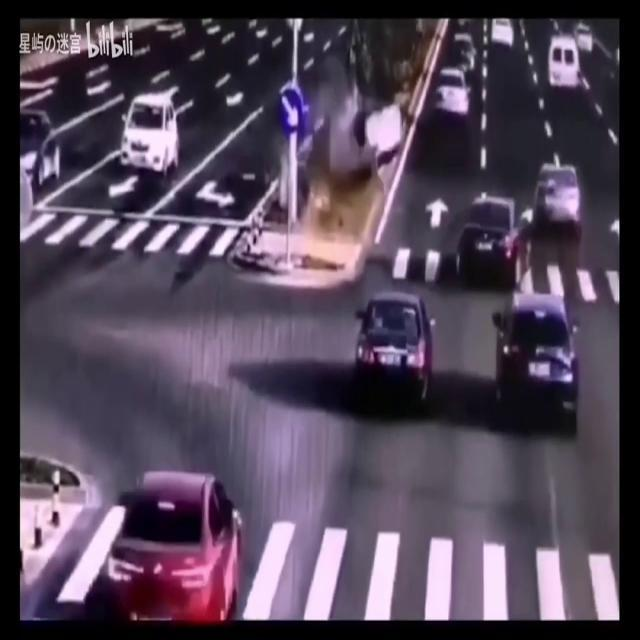normal: (93, 436, 251, 640), (473, 296, 611, 439), (340, 279, 445, 410)
single accident: (320, 11, 427, 202)
